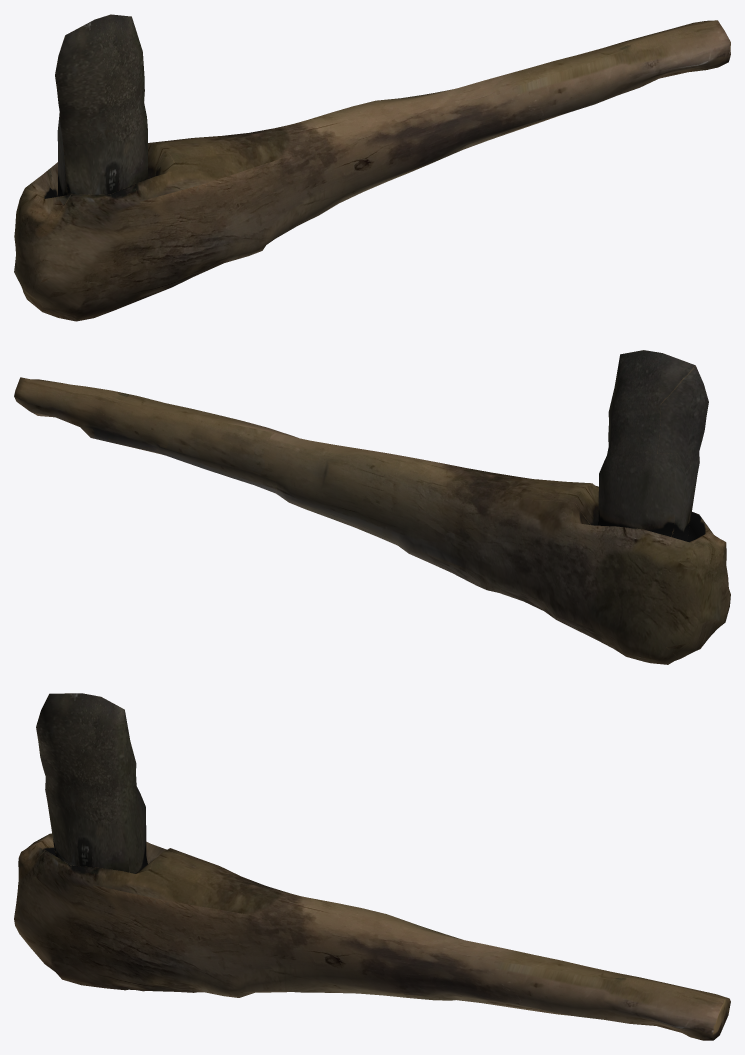
File: Hacha.gltf
3 renders of one model, top to bottom at view 1: azimuth 30°, elevation 25°; view 2: azimuth 150°, elevation 25°; view 3: azimuth 330°, elevation 25°, orthographic. The views are drawn at different scales.
Parts seen in each view (by area): view 1: TexturedMesh; view 2: TexturedMesh; view 3: TexturedMesh.
Boxes of the visible parts, bbox=[...] form: TexturedMesh: bbox=[14, 14, 730, 321]; TexturedMesh: bbox=[14, 350, 730, 664]; TexturedMesh: bbox=[14, 693, 730, 1040].
Size of the model in its own units: 1.27 by 0.5149 by 0.1635.
Materials: 1 (1 with a texture image).
